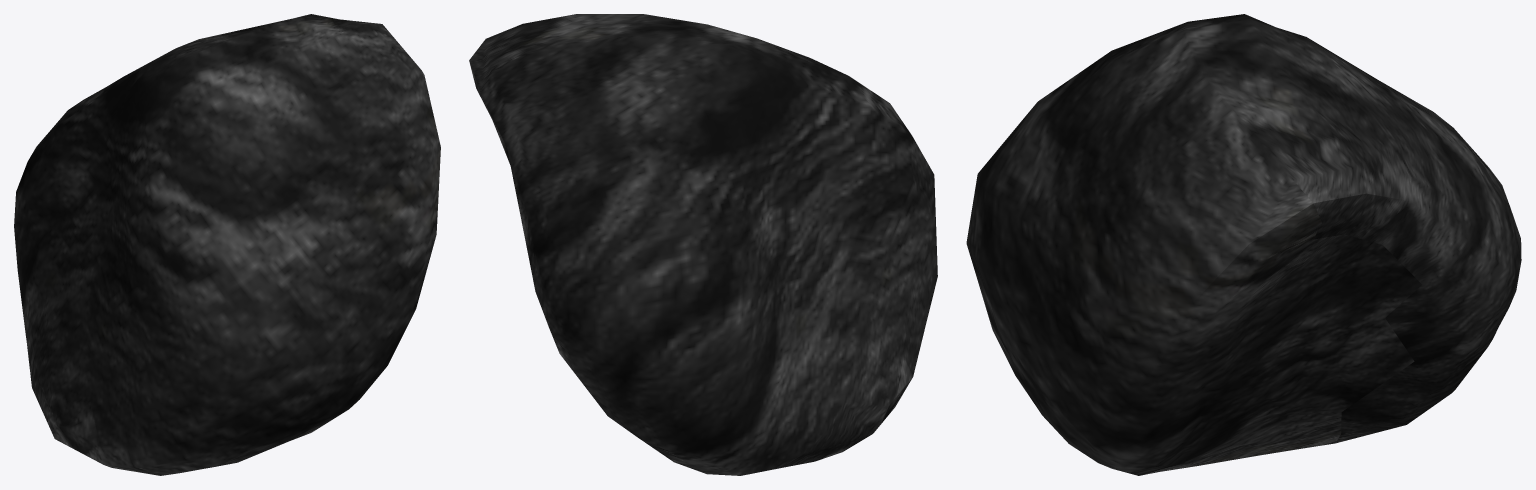
Rendered from Single_asteroid_Smal_1.fbx.
The picture shows the model from 3 angles, left to right: view 1: azimuth 30°, elevation 25°; view 2: azimuth 150°, elevation 25°; view 3: azimuth 270°, elevation 25°; orthographic projection. The views are drawn at different scales.
Visible parts, largest first — view 1: SingleSmal; view 2: SingleSmal; view 3: SingleSmal.
Part boxes in pixels (x1,y1,x2,y2): SingleSmal: [14, 14, 440, 475]; SingleSmal: [469, 14, 937, 475]; SingleSmal: [966, 14, 1521, 475].
Bounding box in the file's own units: 1.44 × 1.37 × 1.53.
Materials: 1 (1 with a texture image).
